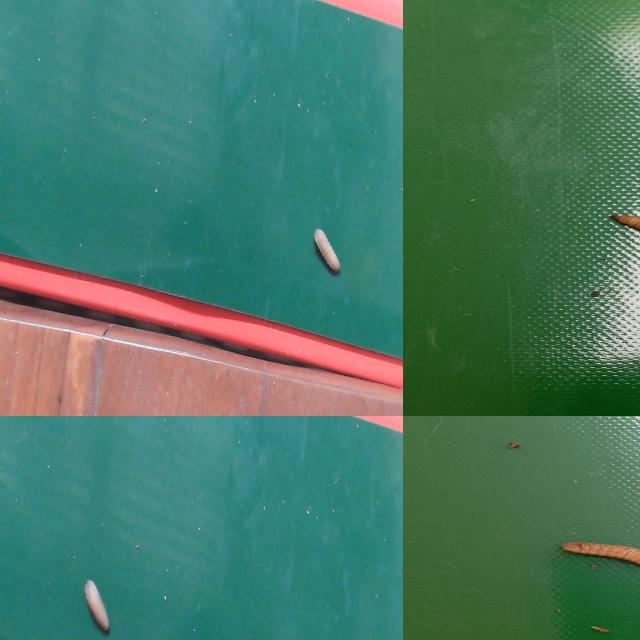Maggot: (560, 543, 640, 569), (82, 579, 112, 637), (313, 229, 342, 278)
